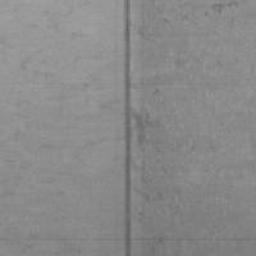Welding line: (122, 0, 133, 256)
